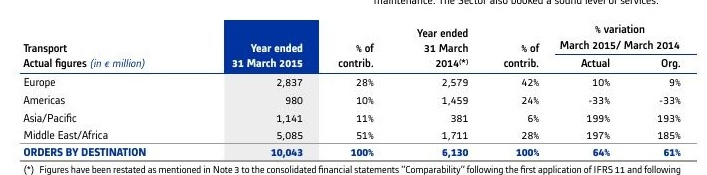table: (0, 0, 707, 175)
